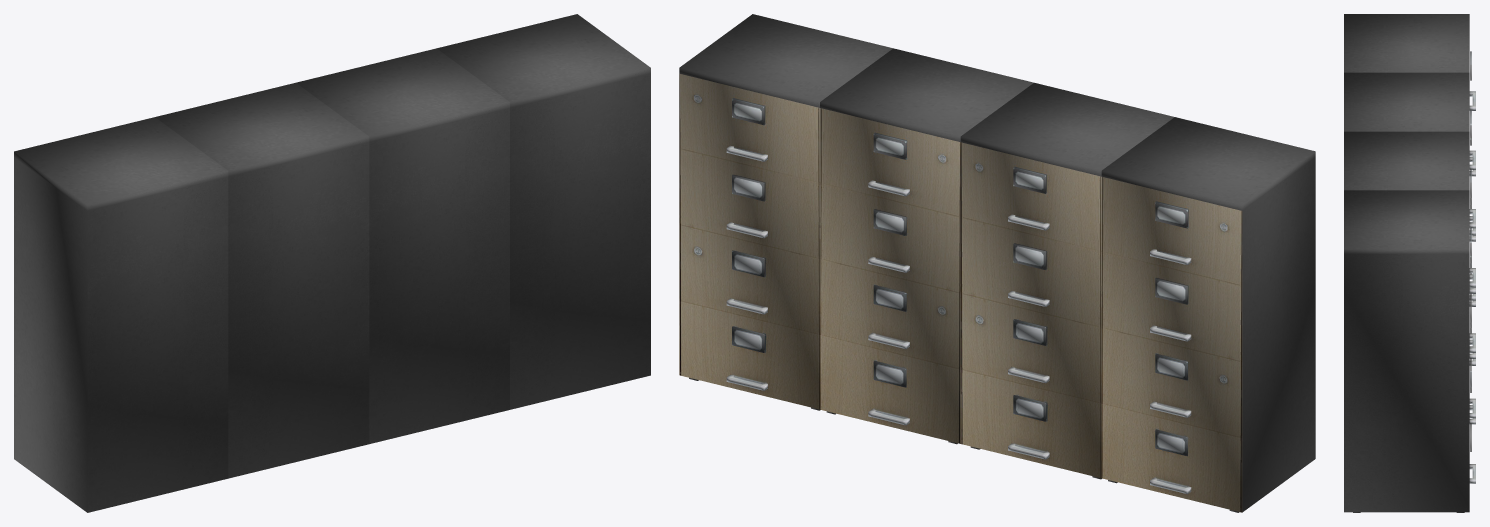
Rendered from cabinet_b.fbx.
3 renders of one model, left to right at view 1: azimuth 30°, elevation 25°; view 2: azimuth 150°, elevation 25°; view 3: azimuth 270°, elevation 25°, orthographic. The views are drawn at different scales.
Parts seen in each view (by area): view 1: Scene_Root; view 2: Scene_Root; view 3: Scene_Root.
Part boxes in pixels (x1,y1,x2,y2): Scene_Root: (14, 14, 650, 512); Scene_Root: (679, 14, 1315, 512); Scene_Root: (1344, 14, 1475, 512).
Bounding box in the file's own units: 101 × 53.37 × 23.9.
